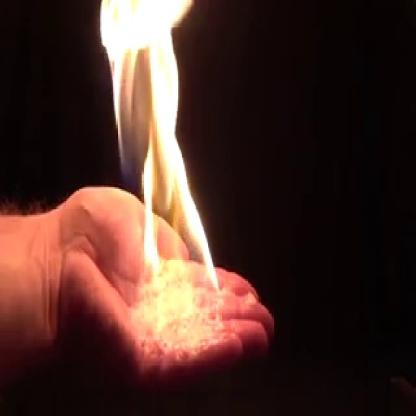fire: (97, 0, 224, 313)
